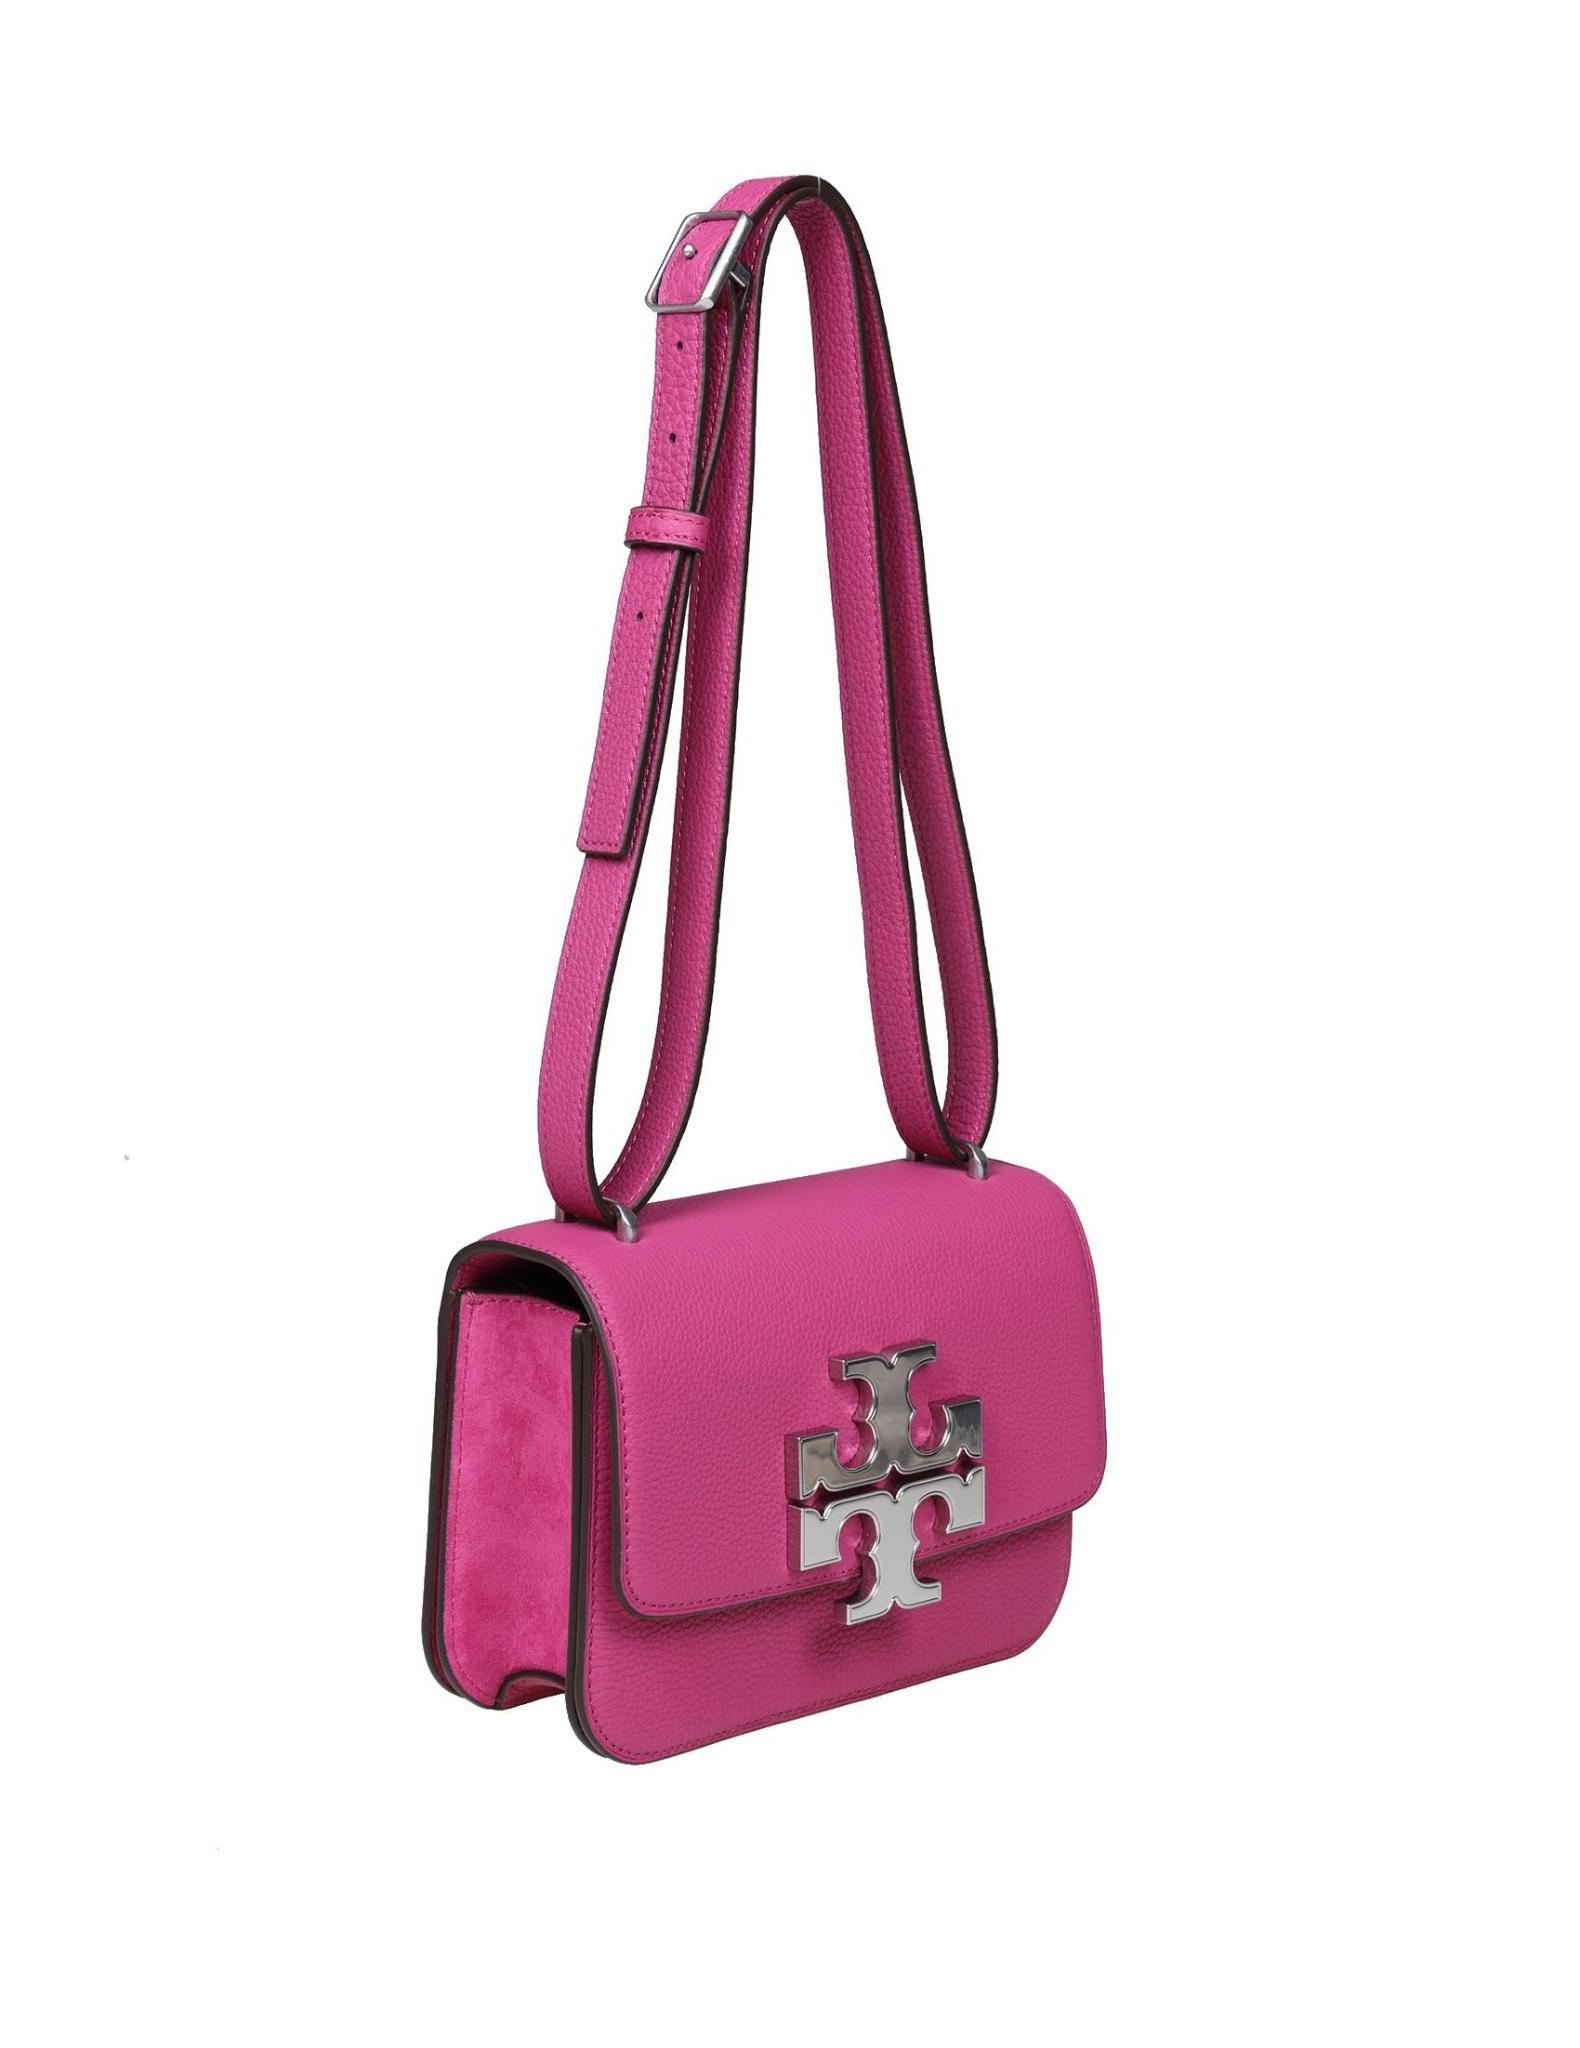TORY-BURCH: (785, 1338, 986, 1625)
